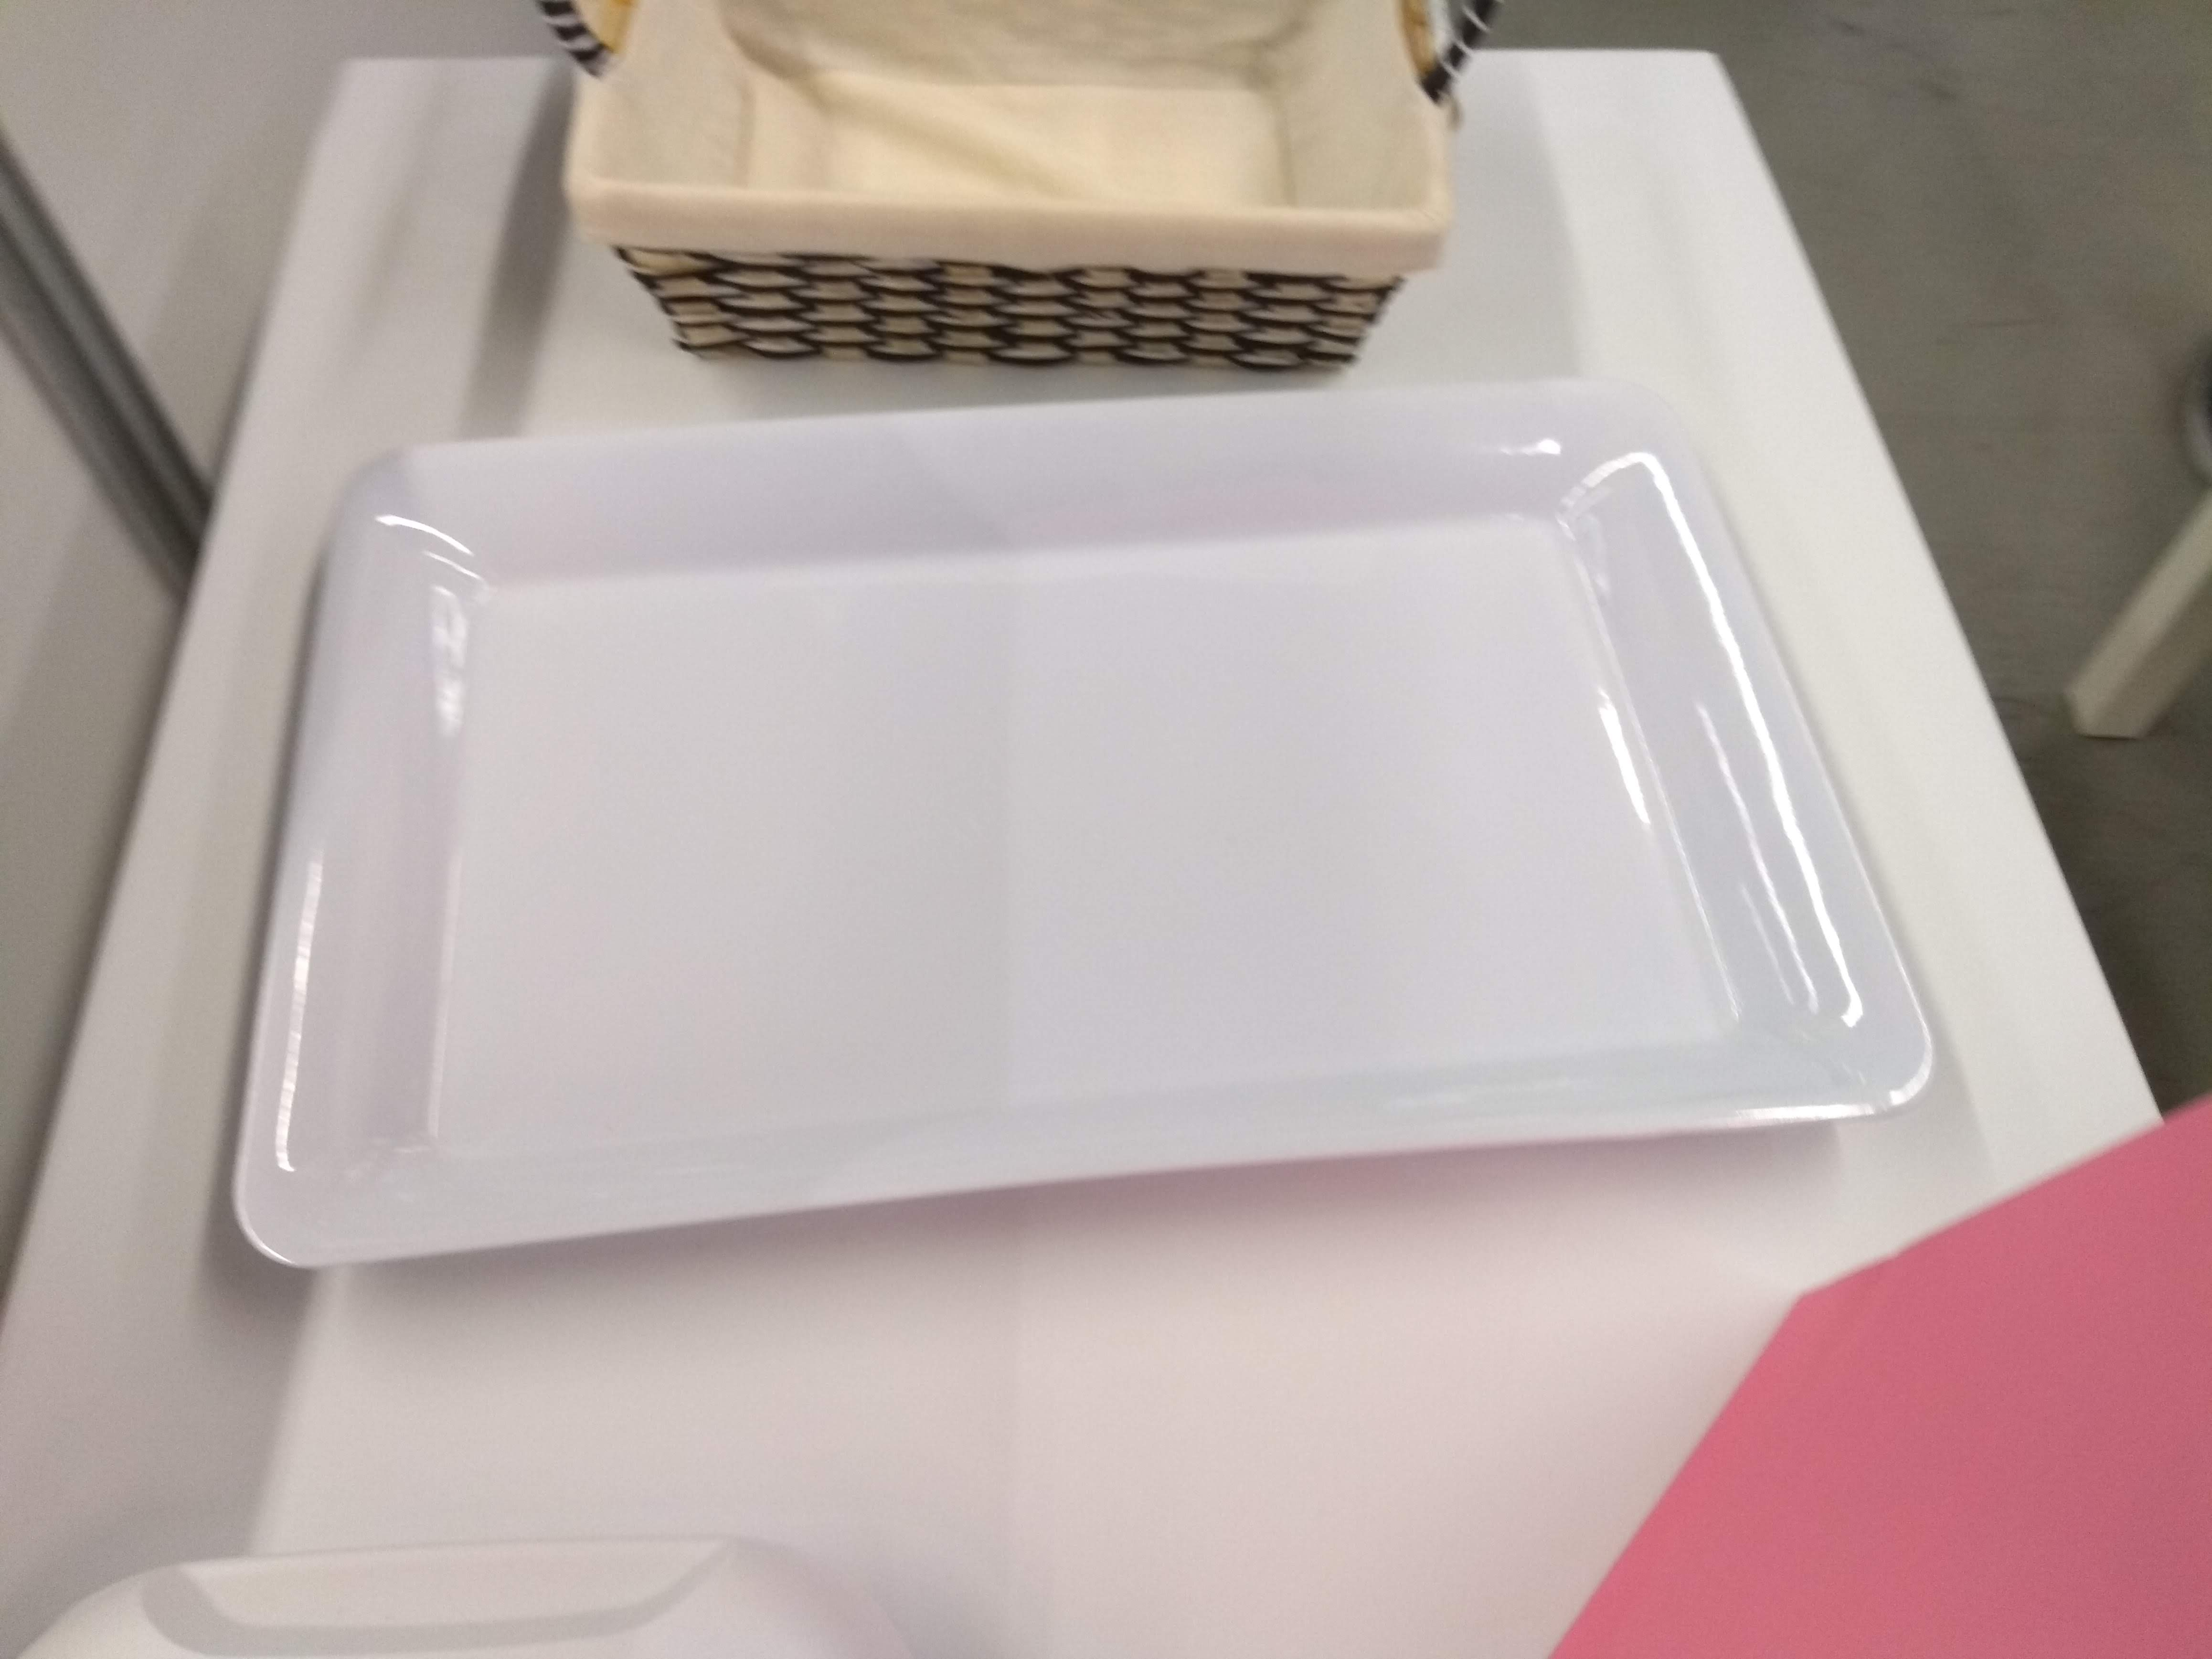basket: (533, 0, 1486, 390)
tray: (190, 387, 1944, 1293)
